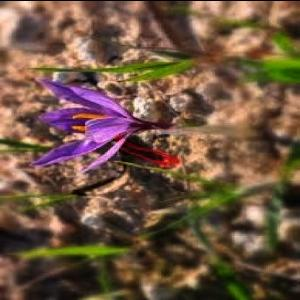Saffron: (31, 80, 157, 168)
